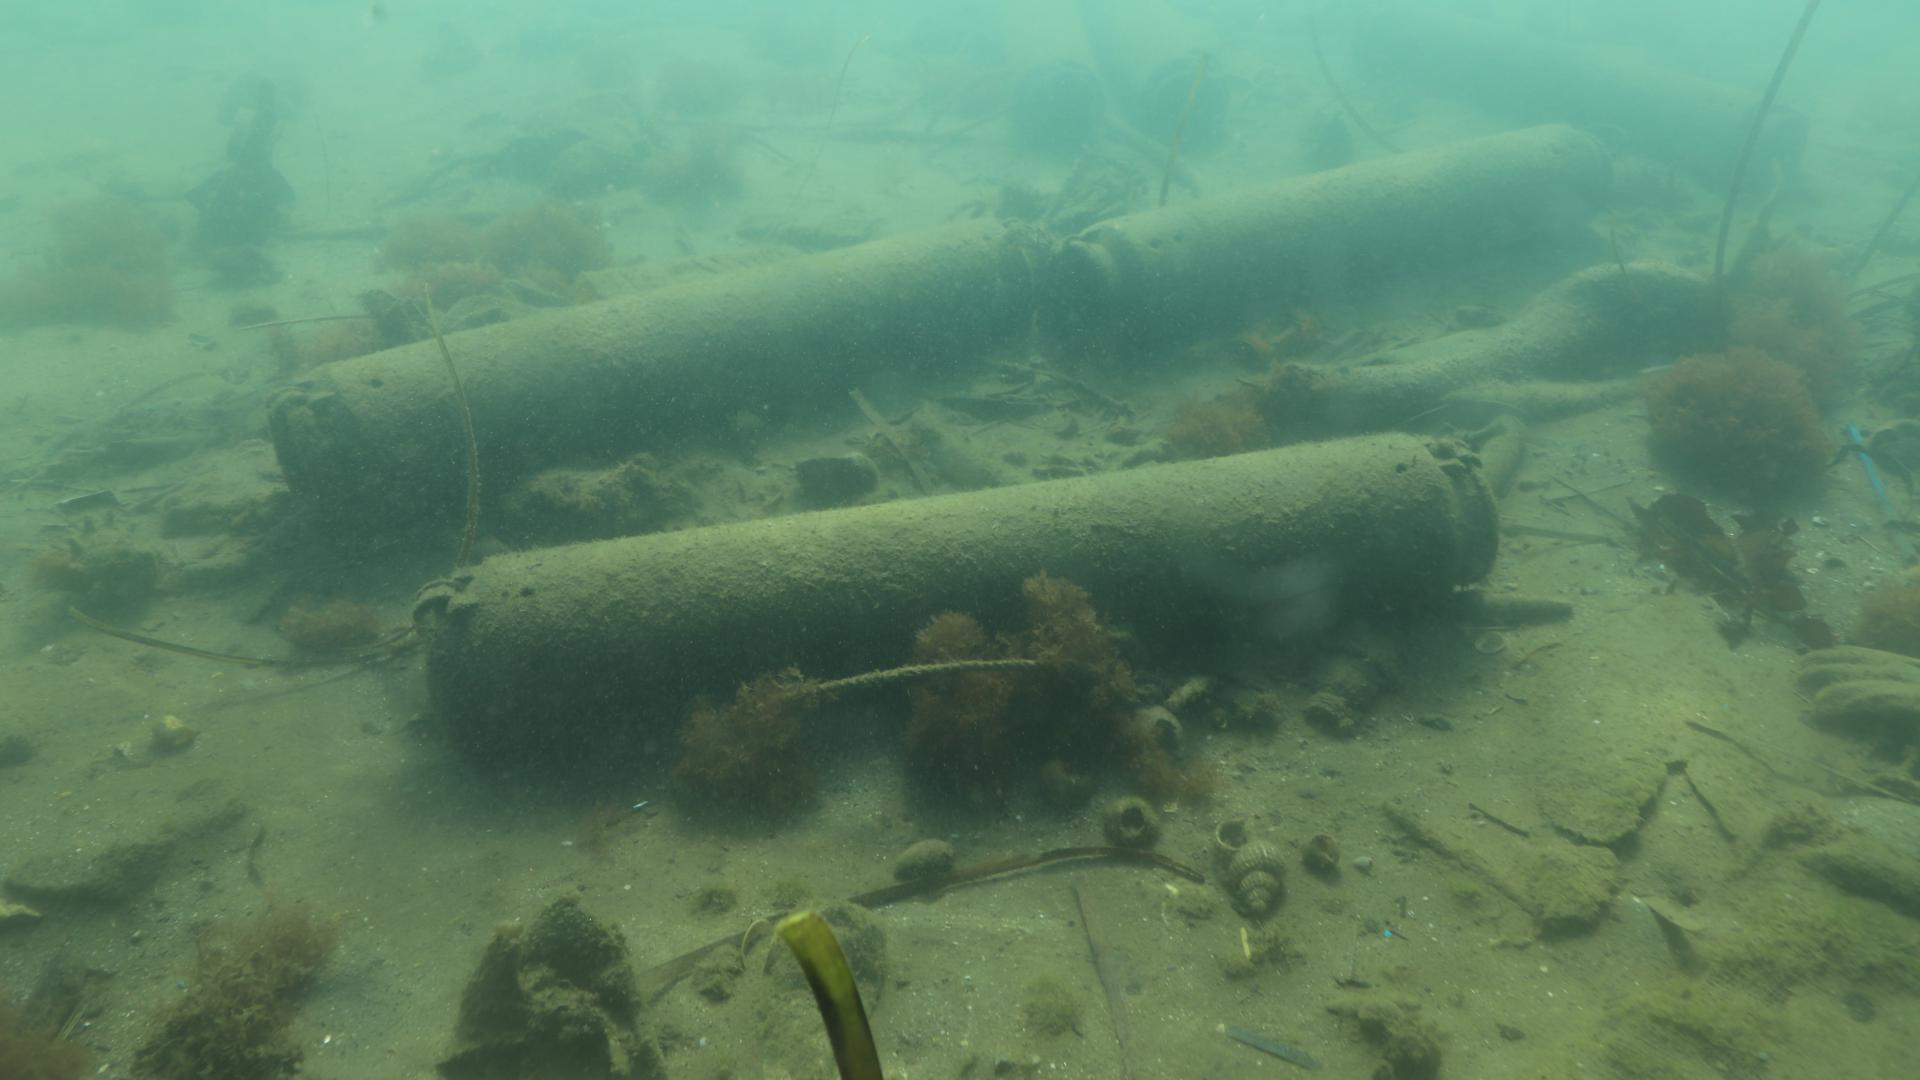eel fish trap: (417, 429, 1493, 746), (269, 218, 1019, 517), (1062, 121, 1619, 320)
